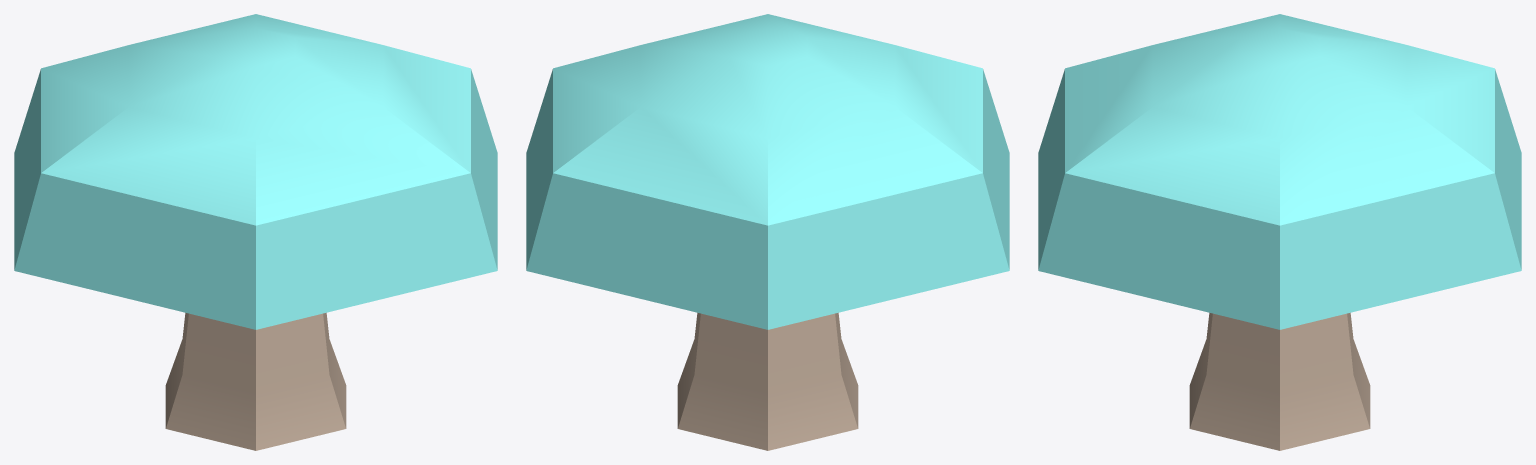
Rendered from Vegetation_Mushroom_Blue_02.fbx.
The picture shows the model from 3 angles, left to right: view 1: azimuth 30°, elevation 25°; view 2: azimuth 150°, elevation 25°; view 3: azimuth 270°, elevation 25°; orthographic projection.
Visible parts, largest first — view 1: Vegetation_Mushroom_Blue_02; view 2: Vegetation_Mushroom_Blue_02; view 3: Vegetation_Mushroom_Blue_02.
Boxes of the visible parts, left/top/right/bottom form: Vegetation_Mushroom_Blue_02: left=14, top=14, right=497, bottom=450; Vegetation_Mushroom_Blue_02: left=526, top=14, right=1009, bottom=450; Vegetation_Mushroom_Blue_02: left=1038, top=14, right=1521, bottom=450.
Size of the model in its own units: 18.4 by 13.08 by 15.93.
